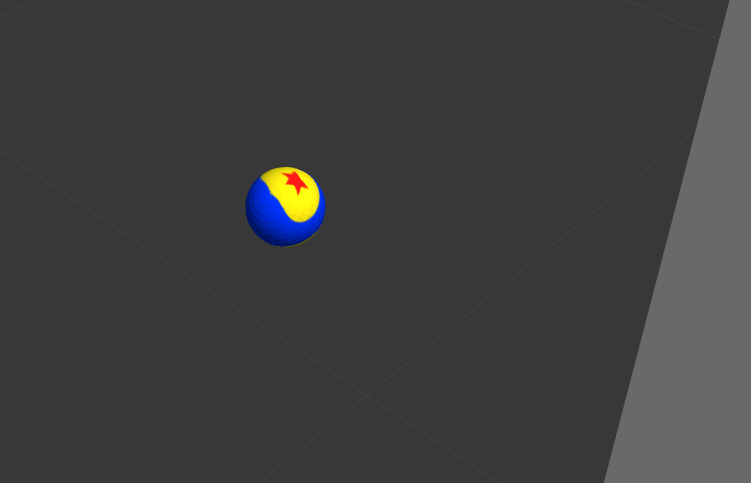toy story ball: (245, 166, 326, 249)
